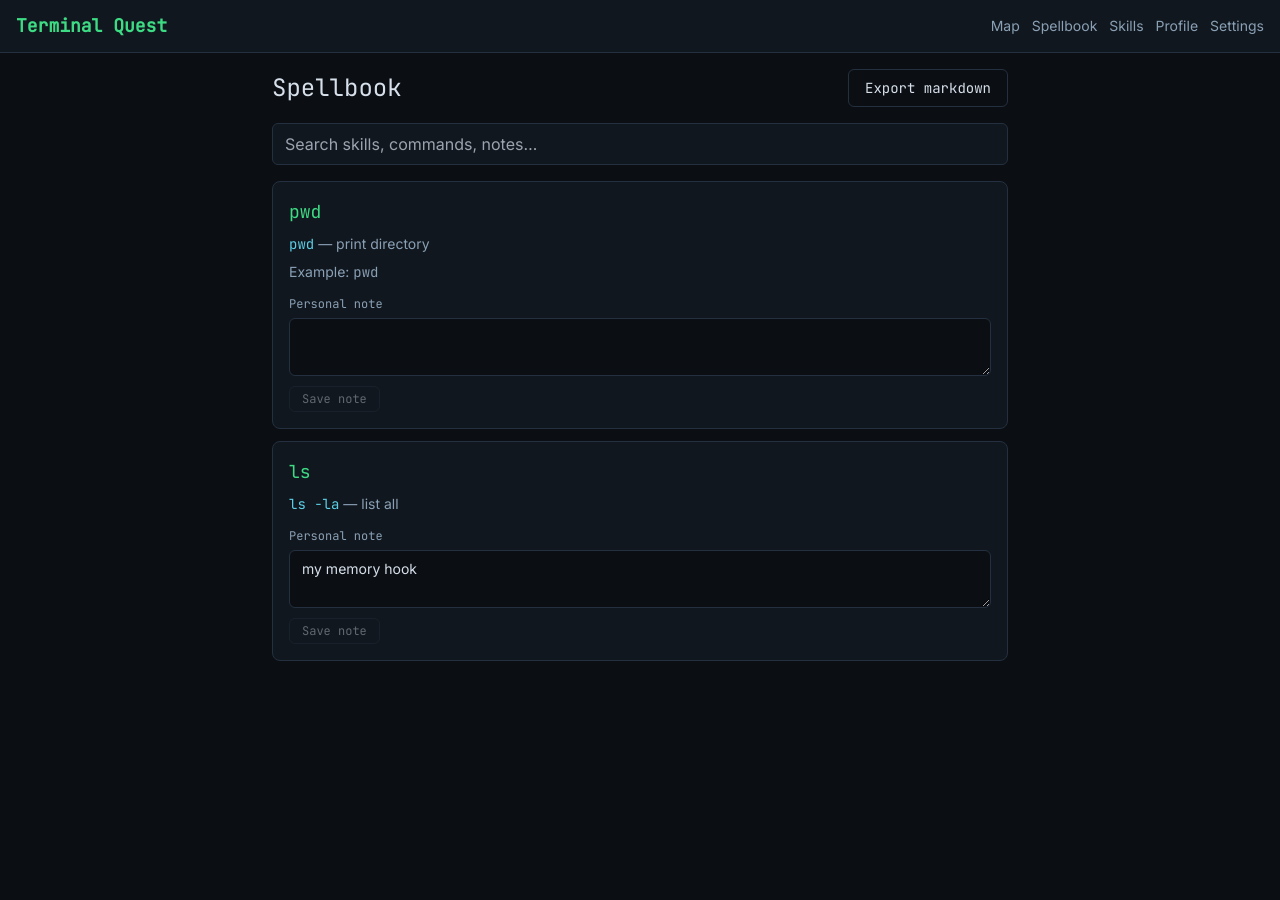
Test: SpellbookPage › saves an edited note and shows confirmation
The width and height of the screenshot is (1280, 900).
Check: the list item with test id "spellbook-entry-pwd" is shown, box [272,181,1008,429]
In the text box labelled "Personal note" below "print directory": point(640, 347) [289,318,991,376], type "stay oriented"
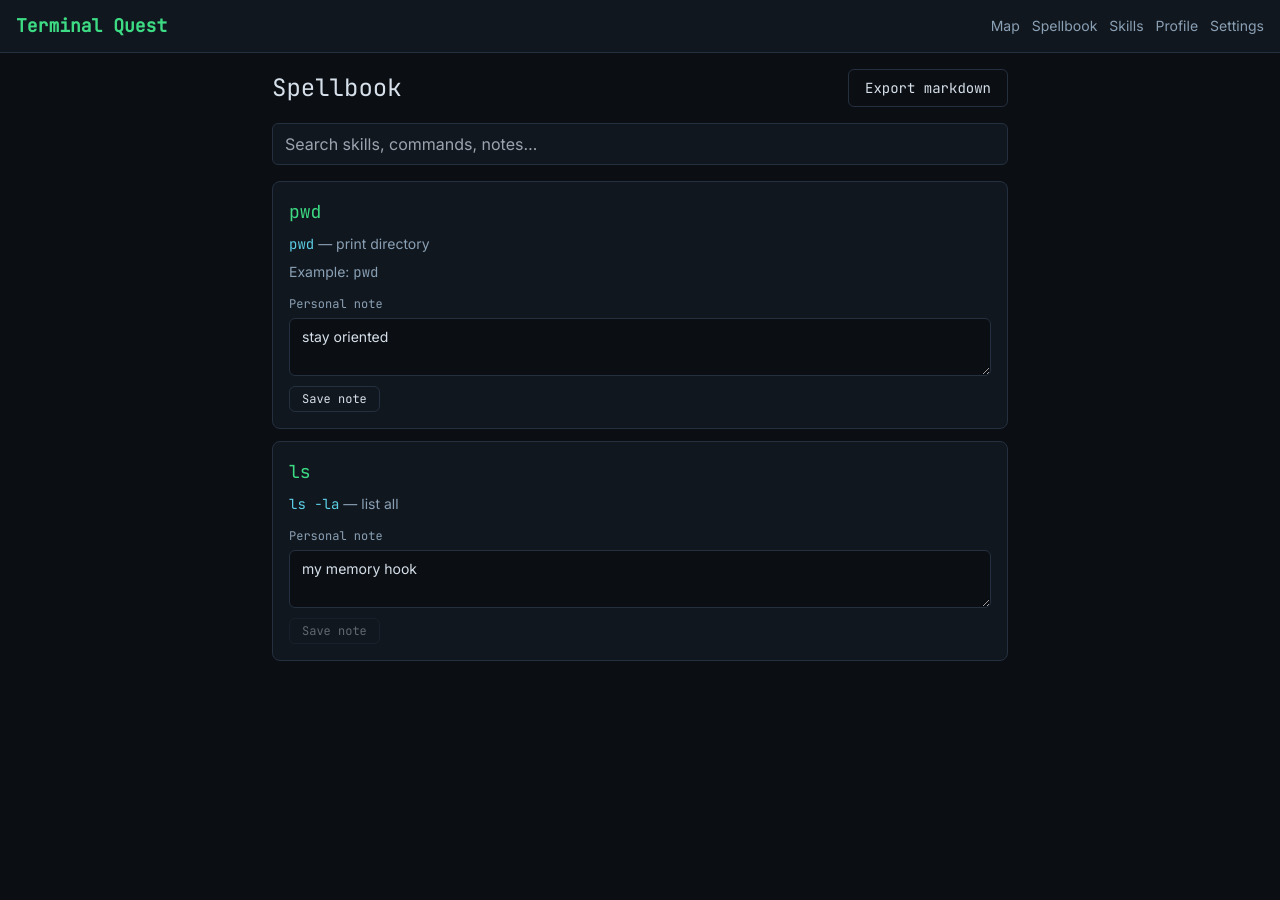
Click the button "Save note" below "print directory": point(334, 399) [289,386,380,412]
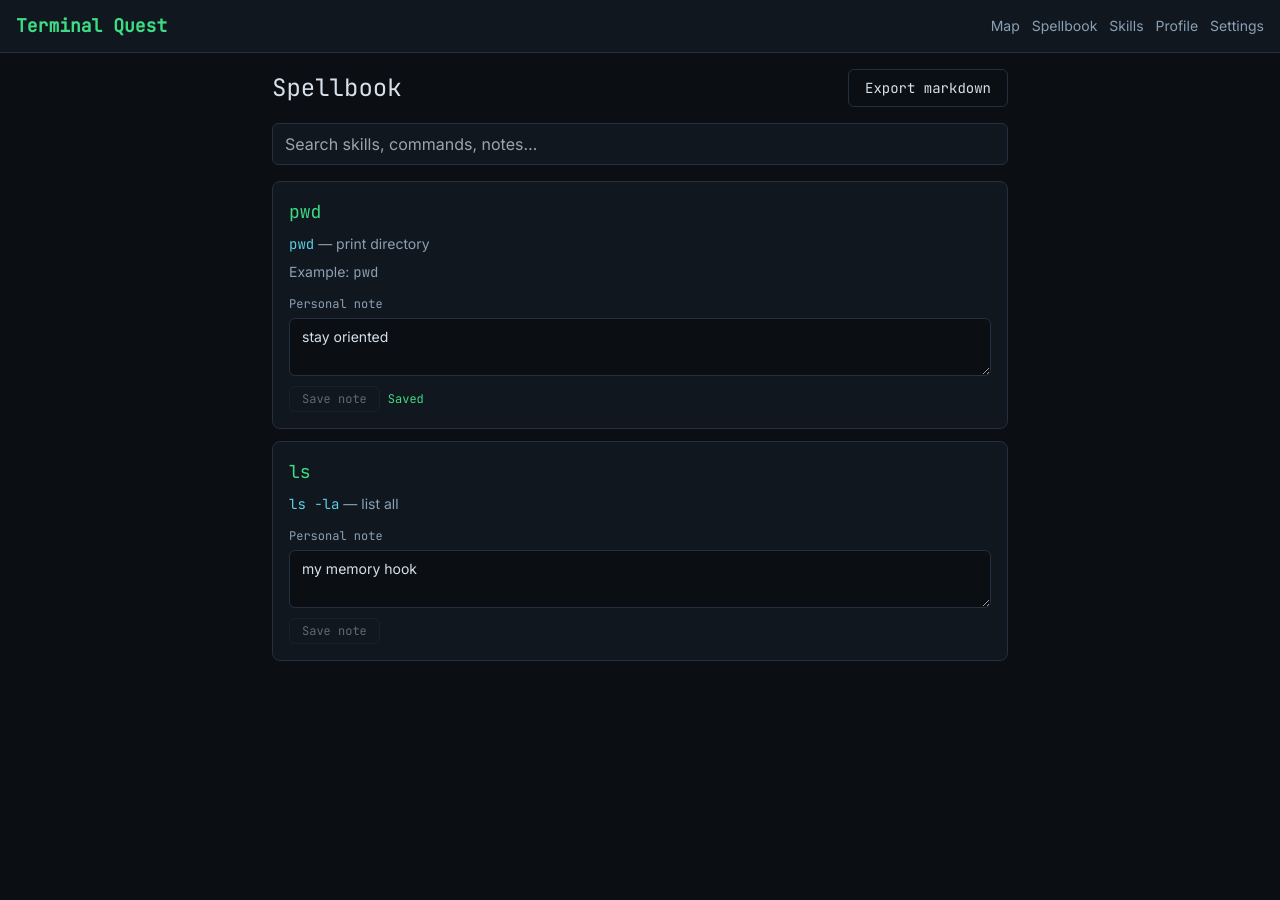
Check: the text "Saved" is shown, box [388,391,424,407]
